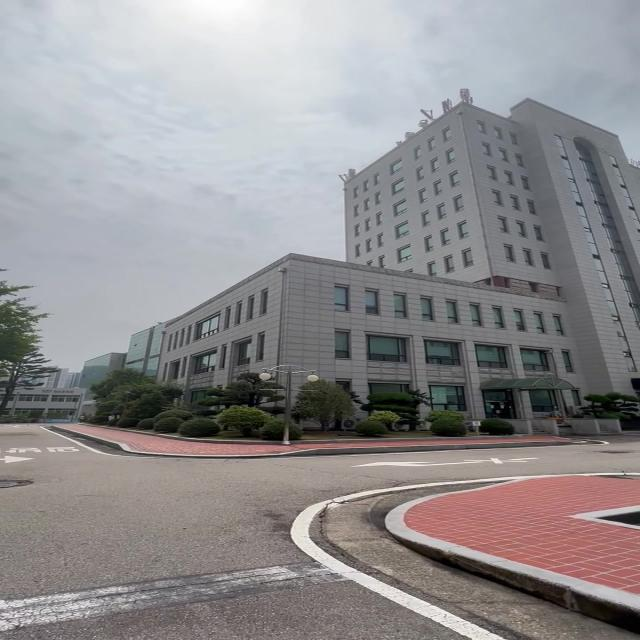building: (172, 110, 640, 362)
